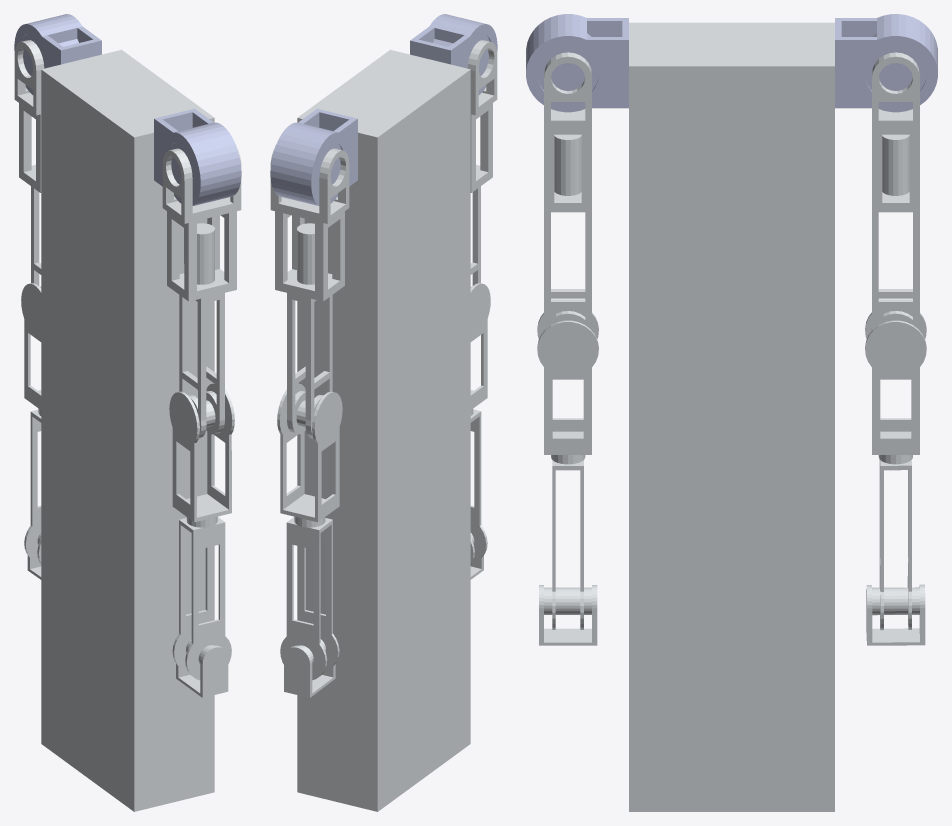
Rendered from koboker_d3.dae.
3 renders of one model, left to right at view 1: azimuth 30°, elevation 25°; view 2: azimuth 150°, elevation 25°; view 3: azimuth 270°, elevation 25°, orthographic. The views are drawn at different scales.
Parts seen in each view (by area): view 1: base_link, Link_3, Link_2, Link_6, Link_5, Link_4, Link_L_3, Link_L_2, Link_7, Link_L_5, Link_L_6, Link_L_4; view 2: base_link, Link_L_3, Link_L_2, Link_L_6, Link_L_5, Link_L_4, Link_3, Link_2, Link_L_7, Link_5, Link_6, Link_4; view 3: base_link, Link_2, Link_L_2, Link_3, Link_L_3, Link_5, Link_L_5, Link_L_7, Link_7, Link_4, Link_L_4, Link_L_6 (+1 smaller).
Part boxes in pixels (left/top/right/bottom): base_link: left=41, top=49, right=214, bottom=811; Link_3: left=162, top=145, right=241, bottom=301; Link_2: left=154, top=108, right=241, bottom=205; Link_6: left=172, top=517, right=231, bottom=679; Link_5: left=169, top=383, right=234, bottom=527; Link_4: left=179, top=293, right=224, bottom=438; Link_L_3: left=14, top=40, right=44, bottom=192; Link_L_2: left=14, top=14, right=101, bottom=94; Link_7: left=176, top=639, right=228, bottom=697; Link_L_5: left=21, top=283, right=41, bottom=415; Link_L_6: left=24, top=409, right=41, bottom=564; Link_L_4: left=31, top=186, right=41, bottom=287; base_link: left=297, top=49, right=470, bottom=811; Link_L_3: left=270, top=145, right=349, bottom=301; Link_L_2: left=270, top=108, right=357, bottom=205; Link_L_6: left=280, top=517, right=339, bottom=680; Link_L_5: left=277, top=383, right=342, bottom=527; Link_L_4: left=287, top=293, right=332, bottom=438; Link_3: left=467, top=40, right=497, bottom=192; Link_2: left=410, top=14, right=497, bottom=94; Link_L_7: left=284, top=639, right=335, bottom=697; Link_5: left=470, top=283, right=490, bottom=415; Link_6: left=470, top=409, right=487, bottom=564; Link_4: left=470, top=186, right=480, bottom=287; base_link: left=629, top=22, right=834, bottom=811; Link_2: left=526, top=14, right=628, bottom=112; Link_L_2: left=835, top=14, right=937, bottom=112; Link_3: left=544, top=52, right=591, bottom=212; Link_L_3: left=872, top=52, right=919, bottom=212; Link_5: left=537, top=309, right=598, bottom=464; Link_L_5: left=865, top=309, right=926, bottom=464; Link_L_7: left=866, top=584, right=925, bottom=645; Link_7: left=539, top=585, right=597, bottom=645; Link_4: left=543, top=212, right=592, bottom=331; Link_L_4: left=871, top=212, right=920, bottom=330; Link_L_6: left=879, top=460, right=911, bottom=630.
Size of the model in its own units: 0.15 by 0.6005 by 1.23.
